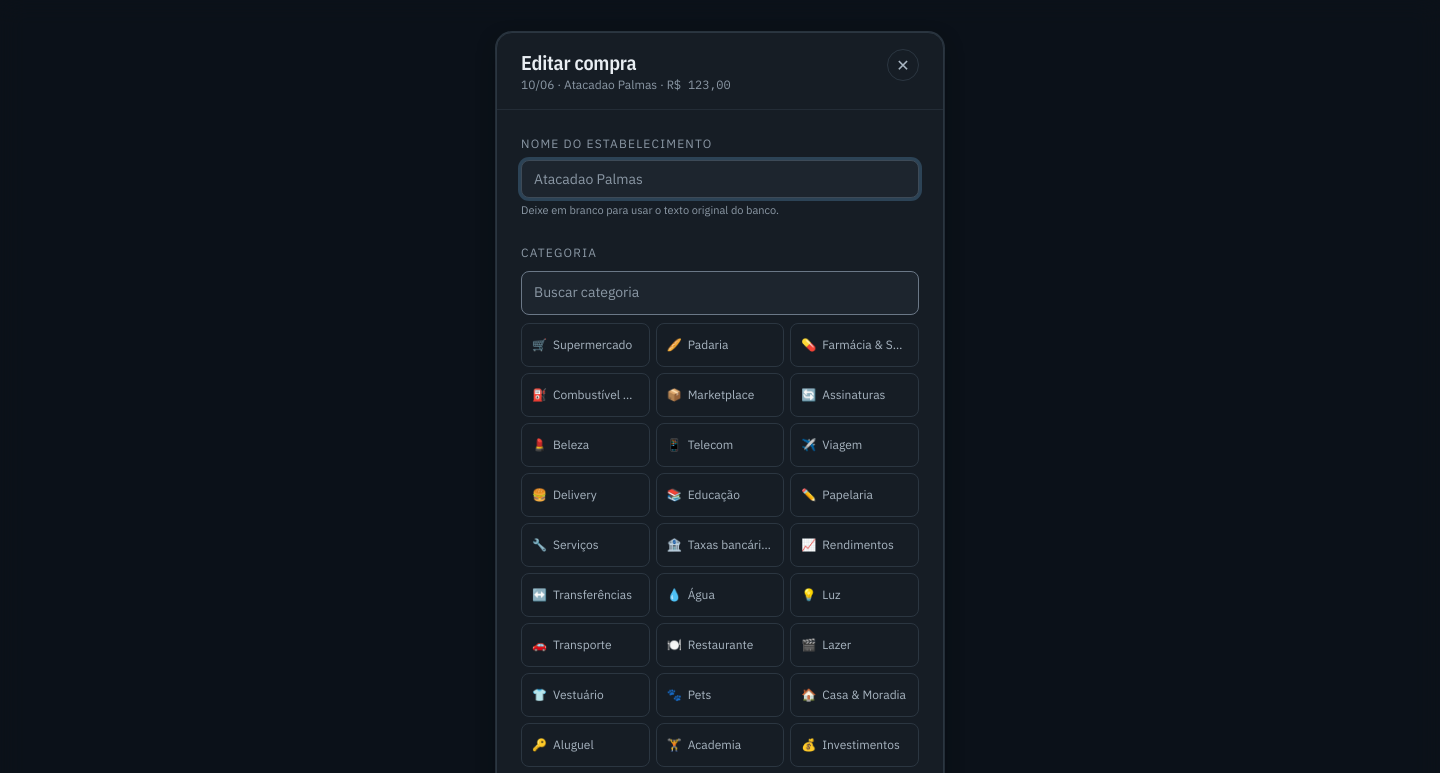
Test: EditarCompra — a correção alcança o histórico › oferece corrigir as outras compras iguais, com a contagem certa
Expected: the checkbox labelled "corrigir também" is not shown
Click the button "🛒 Supermercado" at x=585, y=344, box [521,322,650,366]
(page scrolled)
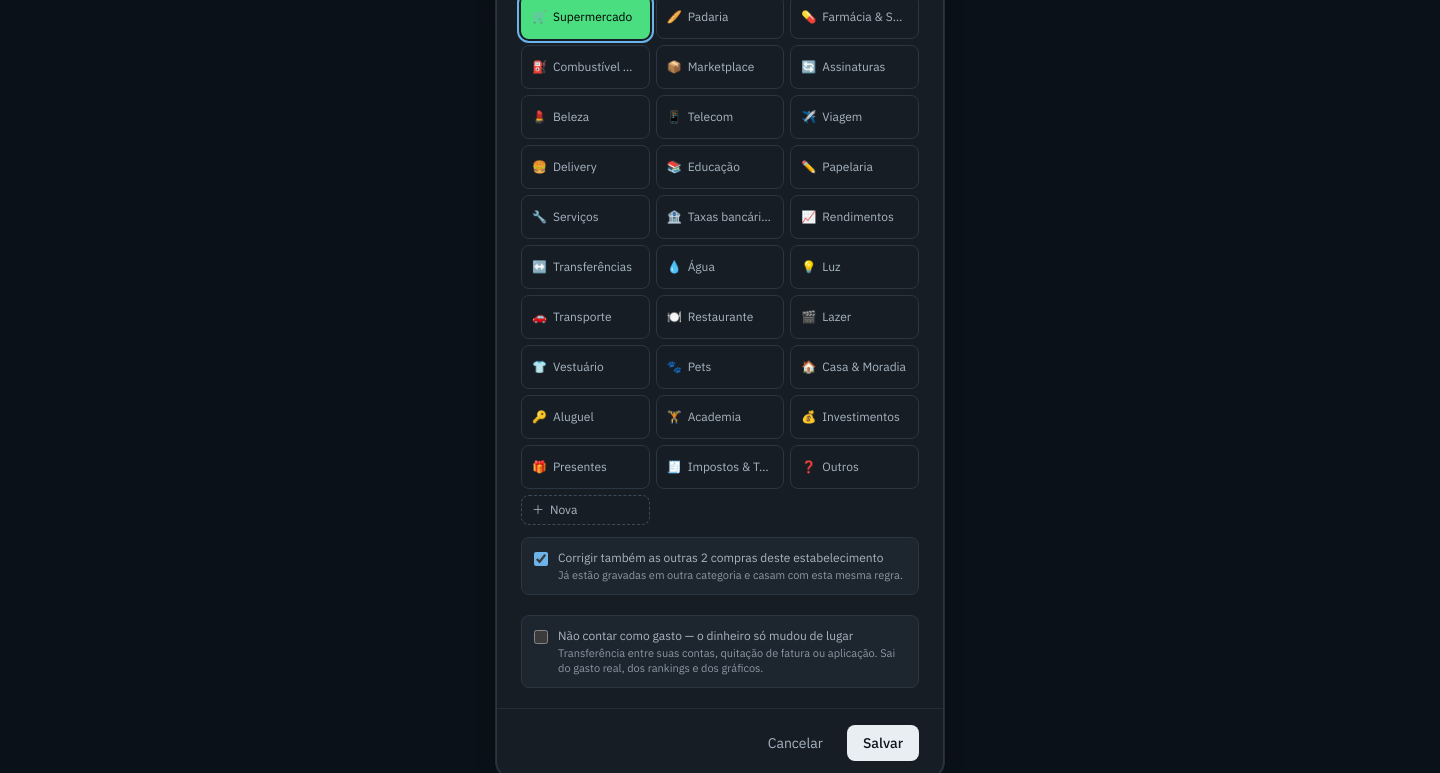
Now the checkbox labelled "Corrigir também" is checked, box [534,552,548,566]
Now the text "outras 2 compras" is shown, box [558,550,883,564]
